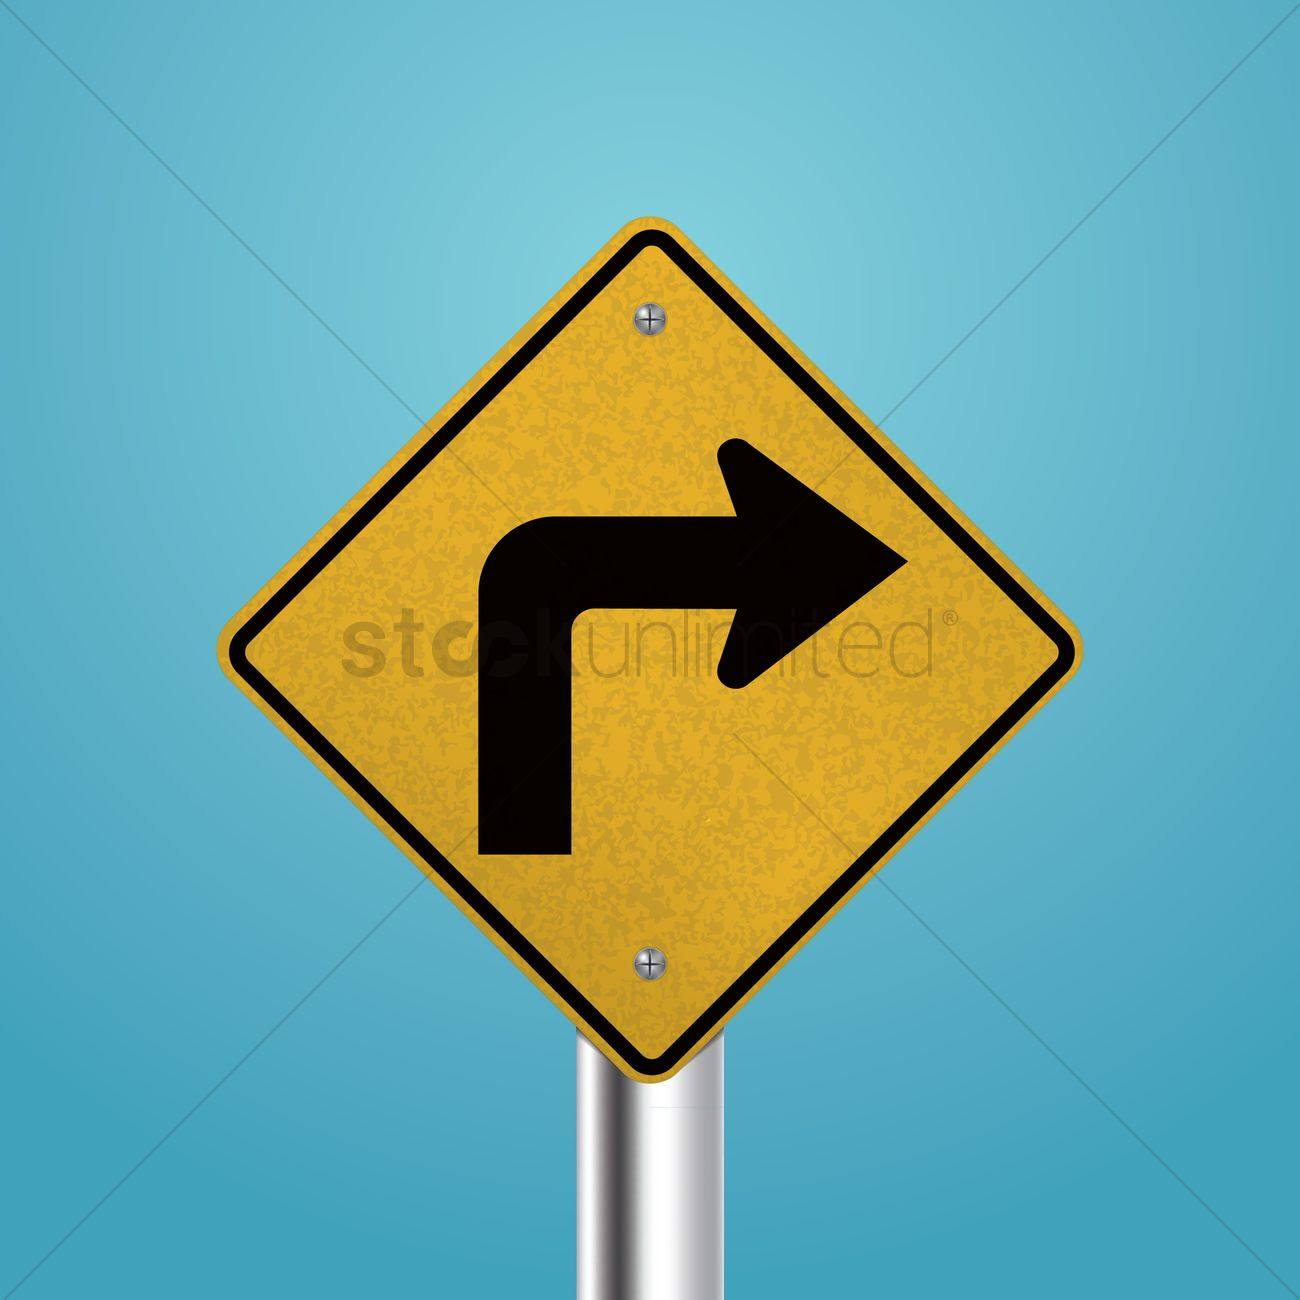right: (204, 210, 1096, 1098)
